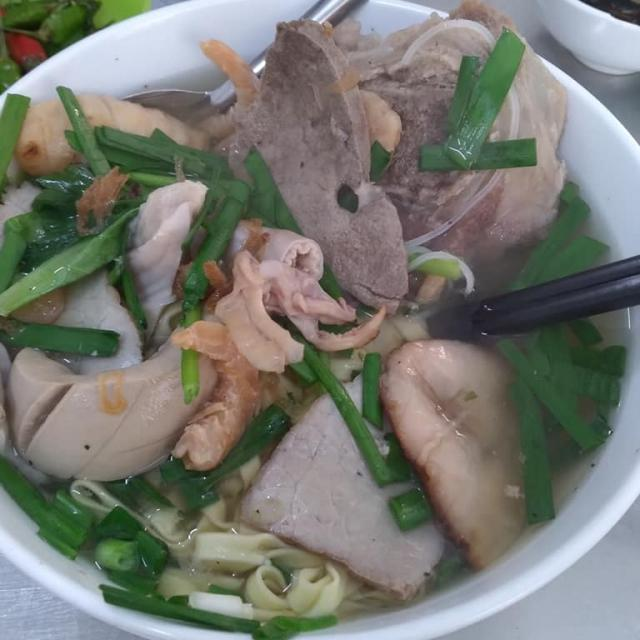gan: (206, 6, 419, 323)
thit heo: (319, 0, 578, 285), (232, 346, 468, 619), (0, 207, 151, 490), (0, 167, 53, 327)
